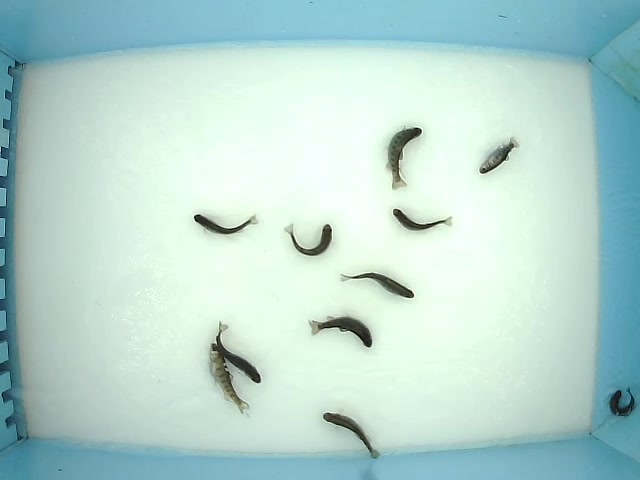fish: (216, 319, 263, 385), (324, 409, 383, 461), (208, 342, 250, 415), (384, 124, 423, 191), (307, 312, 373, 348), (338, 270, 415, 299), (284, 222, 333, 258), (478, 135, 521, 175), (391, 207, 454, 233), (193, 213, 259, 236), (608, 386, 636, 418)
